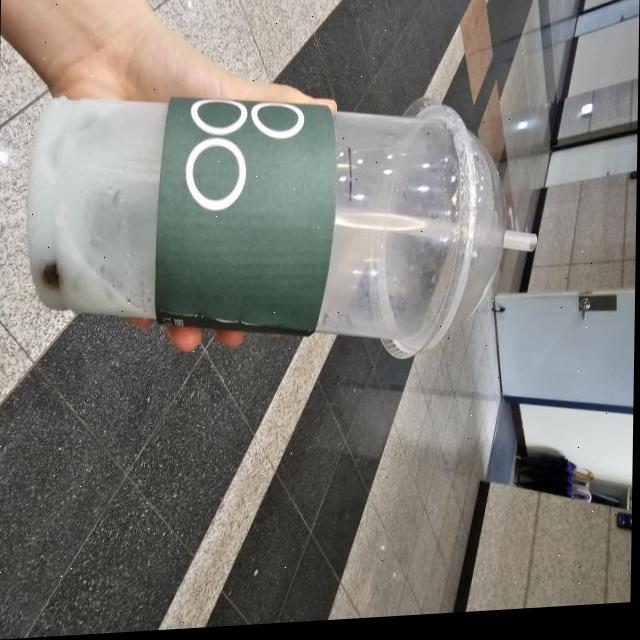cup: (20, 65, 517, 388)
